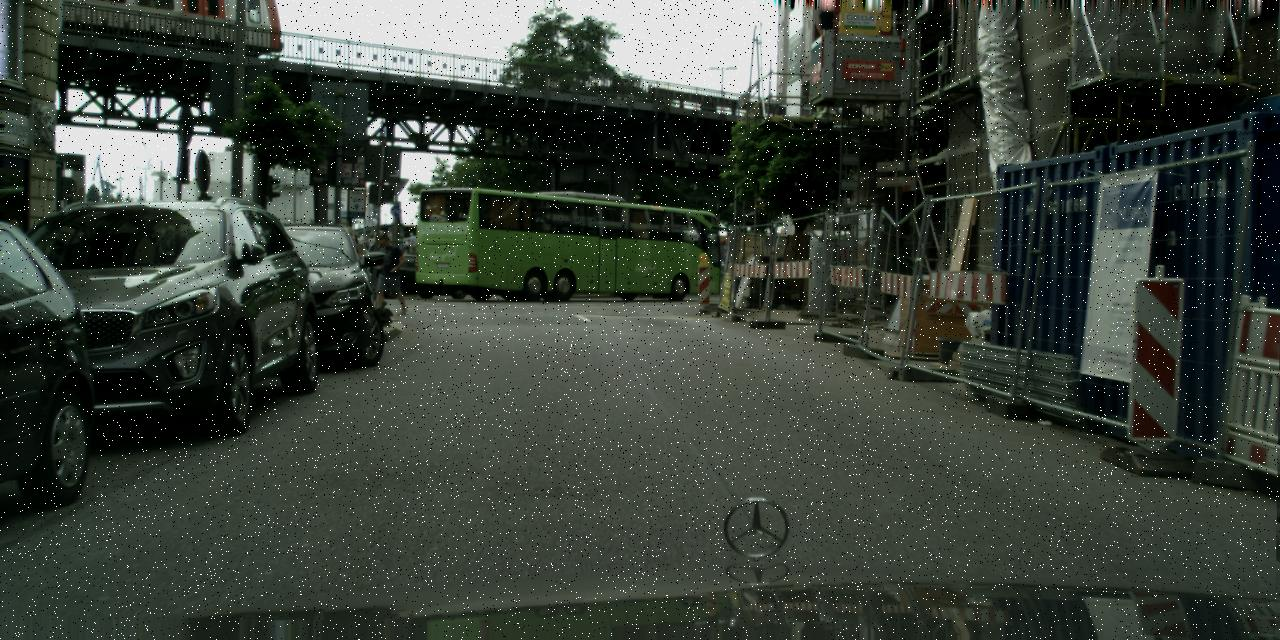ped: (0, 219, 32, 312), (371, 234, 403, 314), (368, 230, 387, 277), (365, 230, 376, 256), (406, 232, 416, 257), (366, 233, 376, 257), (358, 234, 363, 247), (354, 232, 358, 244)
